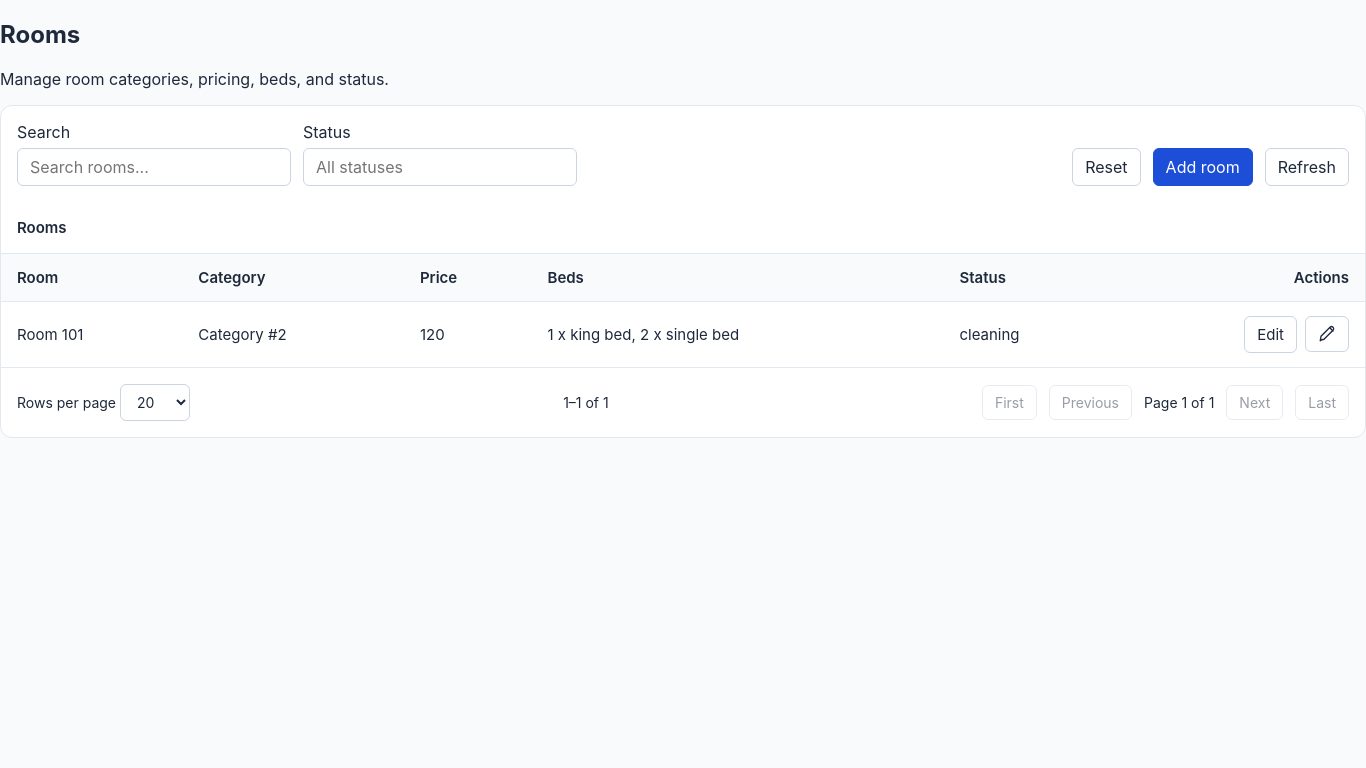
Test: Rooms page › validates category, nonnegative price, bed types, and integer quantities
Click the button "Add room": (1203,167) [1153, 148, 1253, 186]
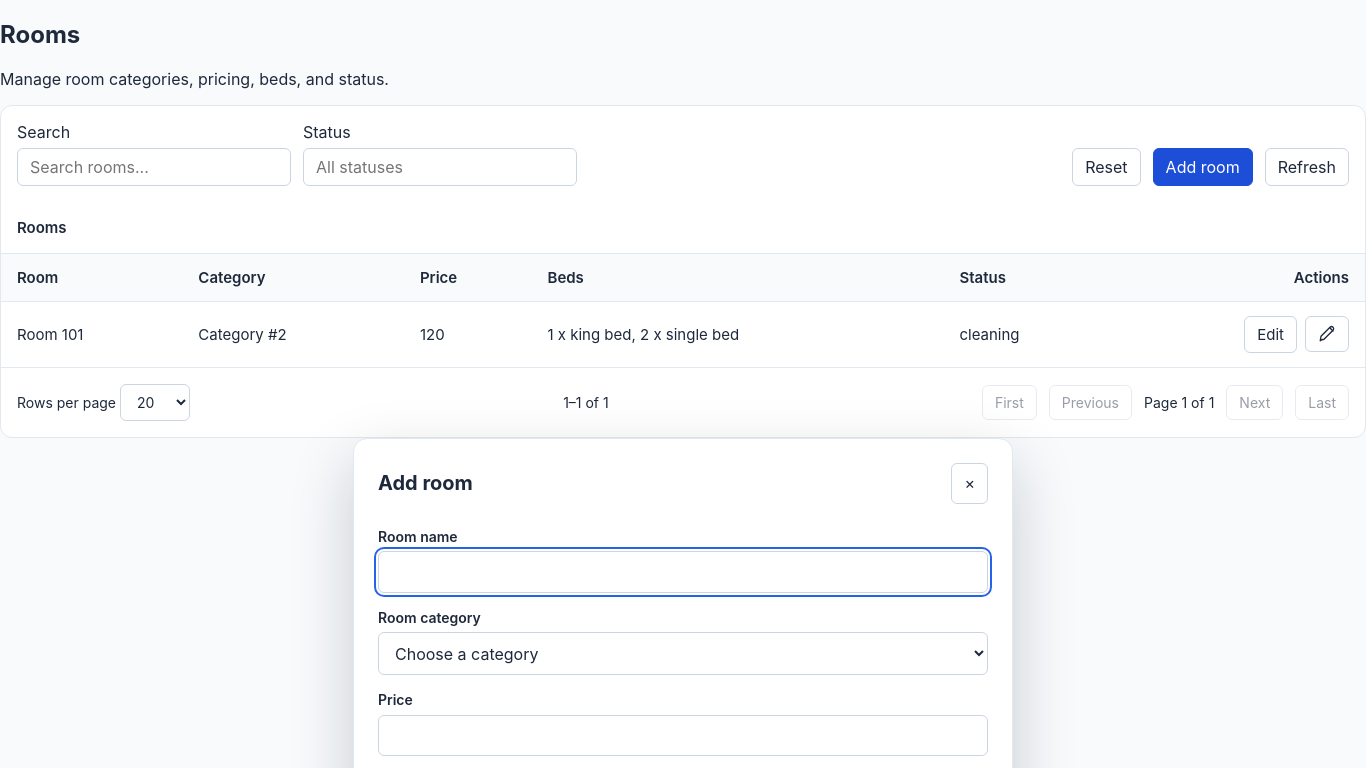
In the number field named "price": (683,735) [378, 714, 988, 756], type "-1"
(page scrolled)
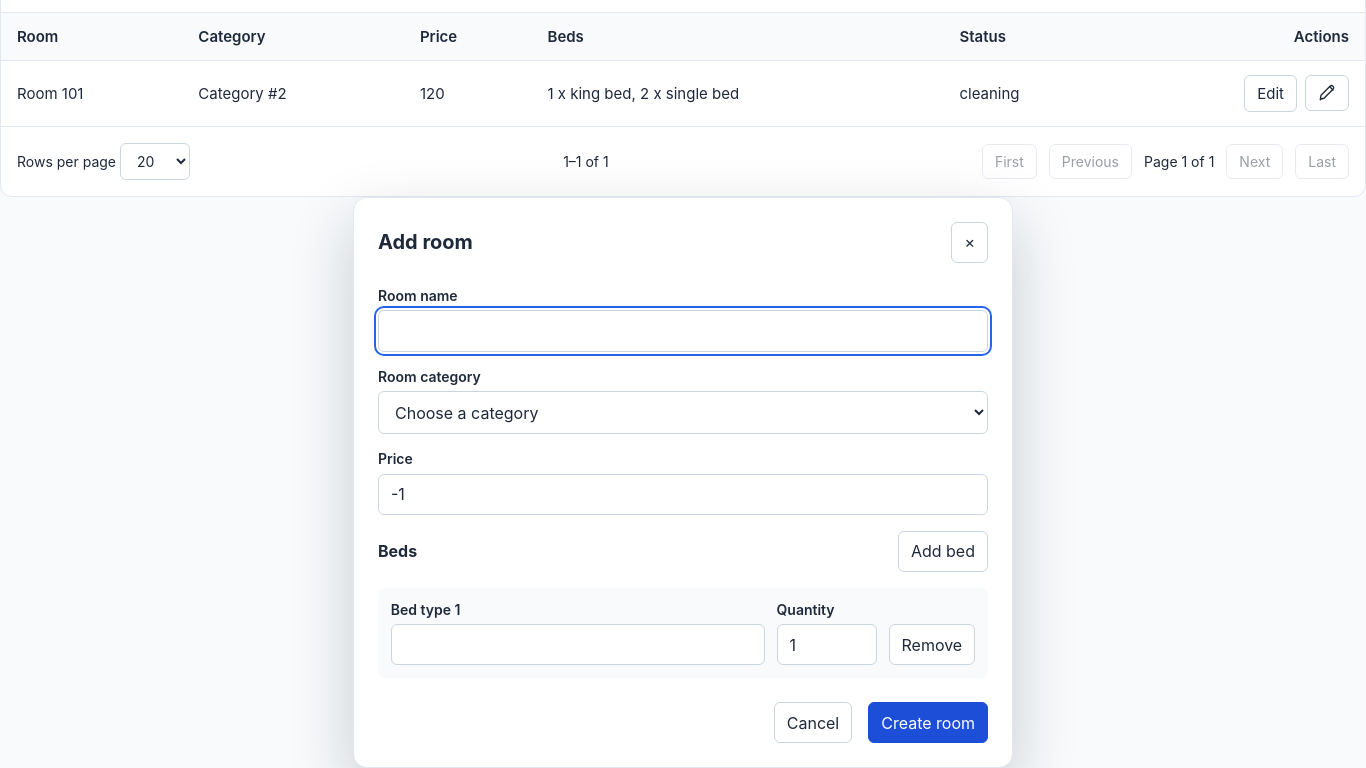
Replace the text in the number field named "room_beds[0" with "1.5": (826,645) [776, 624, 876, 665]
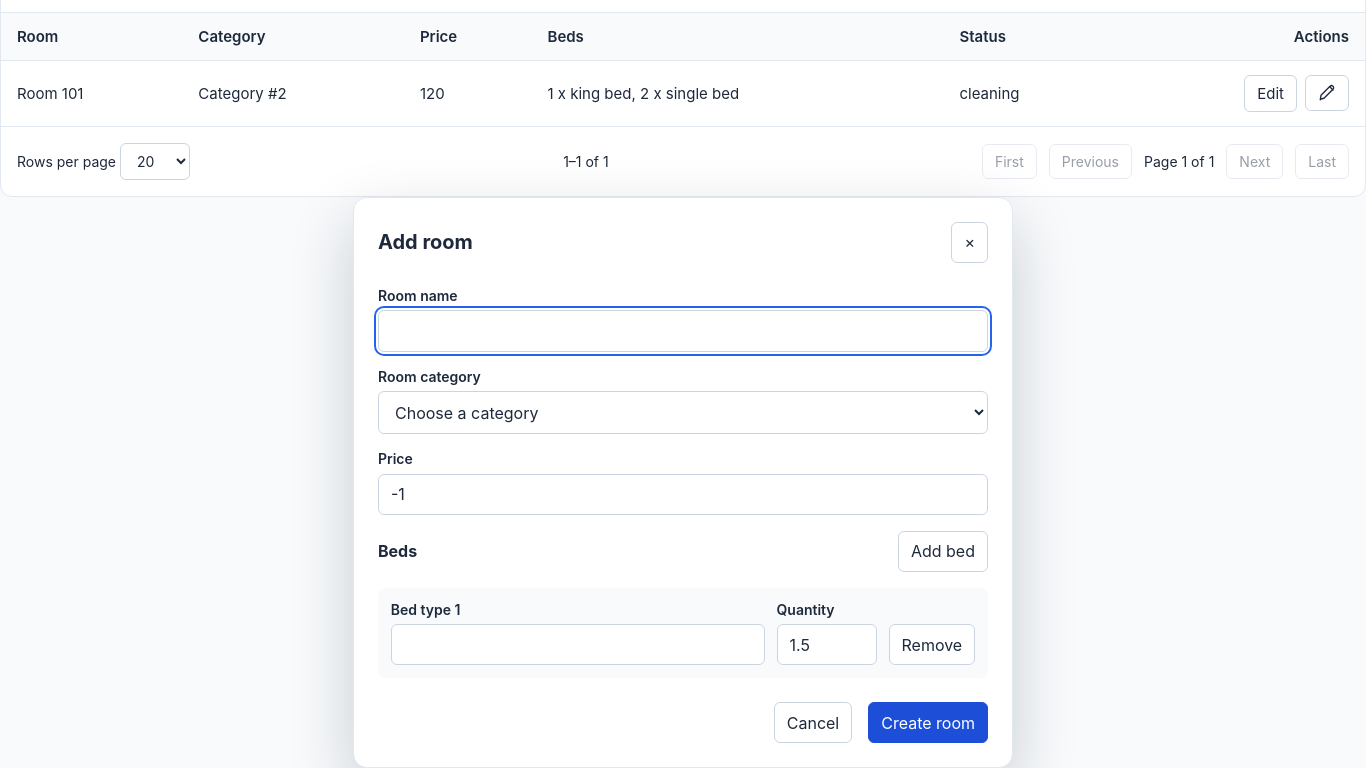
Submit the form, box [378, 222, 988, 743]
(page scrolled)
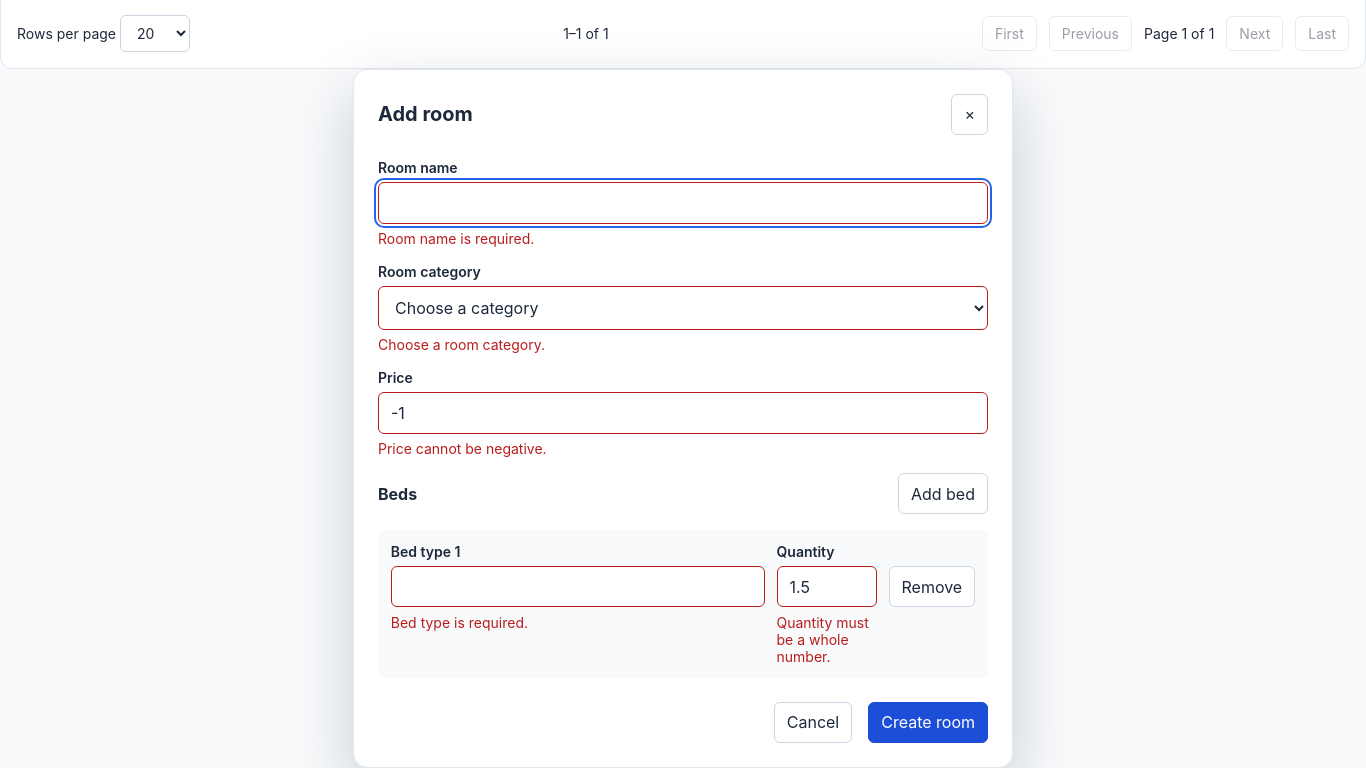
Check: the dialog shows "Room name is required.", box [378, 230, 534, 247]
Check: the dialog shows "Choose a room category.", box [378, 336, 545, 353]
Check: the dialog shows "Price cannot be negative.", box [378, 440, 547, 457]
